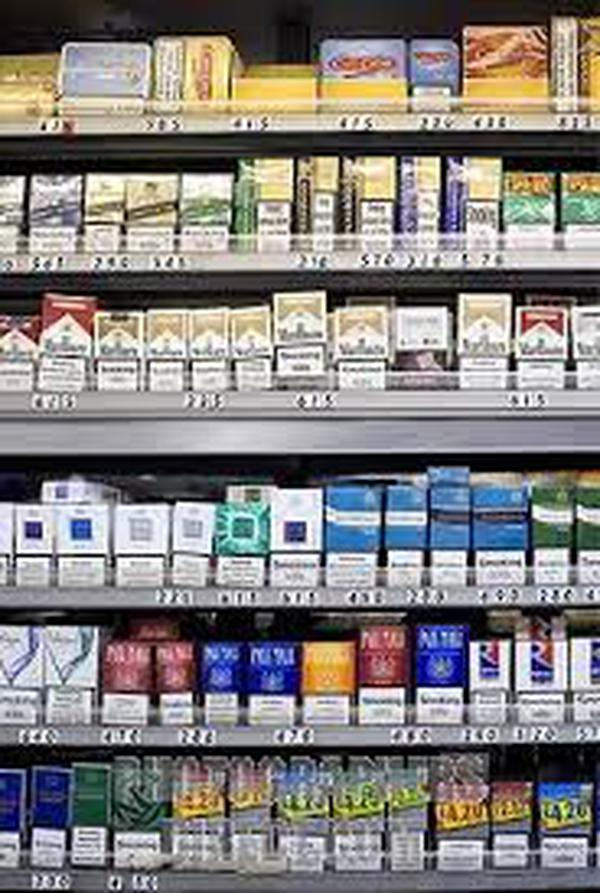marlboro_red: (43, 298, 96, 385), (516, 308, 566, 390), (1, 320, 38, 388)
